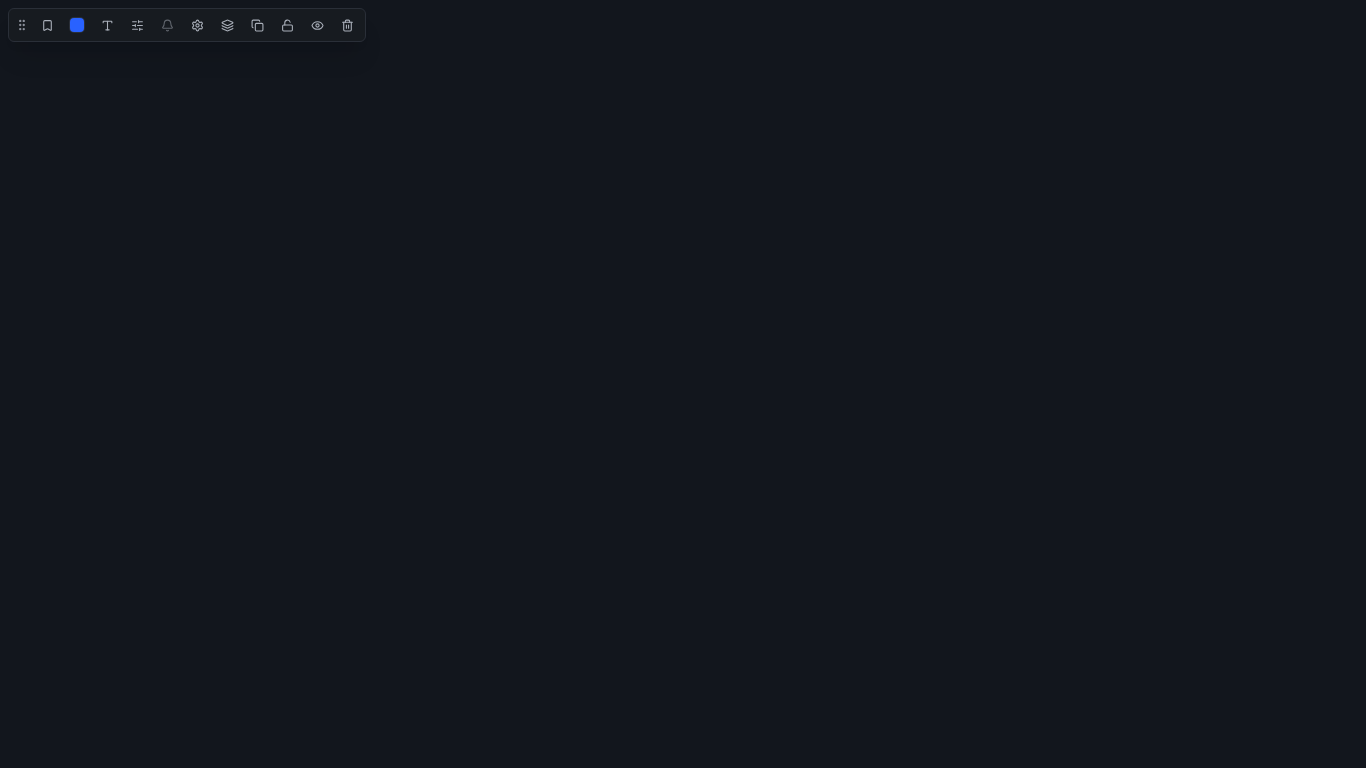
it: FloatingDrawingBar › renders for the selected drawing and opens the tabbed settings modal
Check: the element named "Trend line settings" is shown, box [8,8,366,42]
Click the button named "Drawing settings".
click(197, 25)  # box [183,11,211,39]
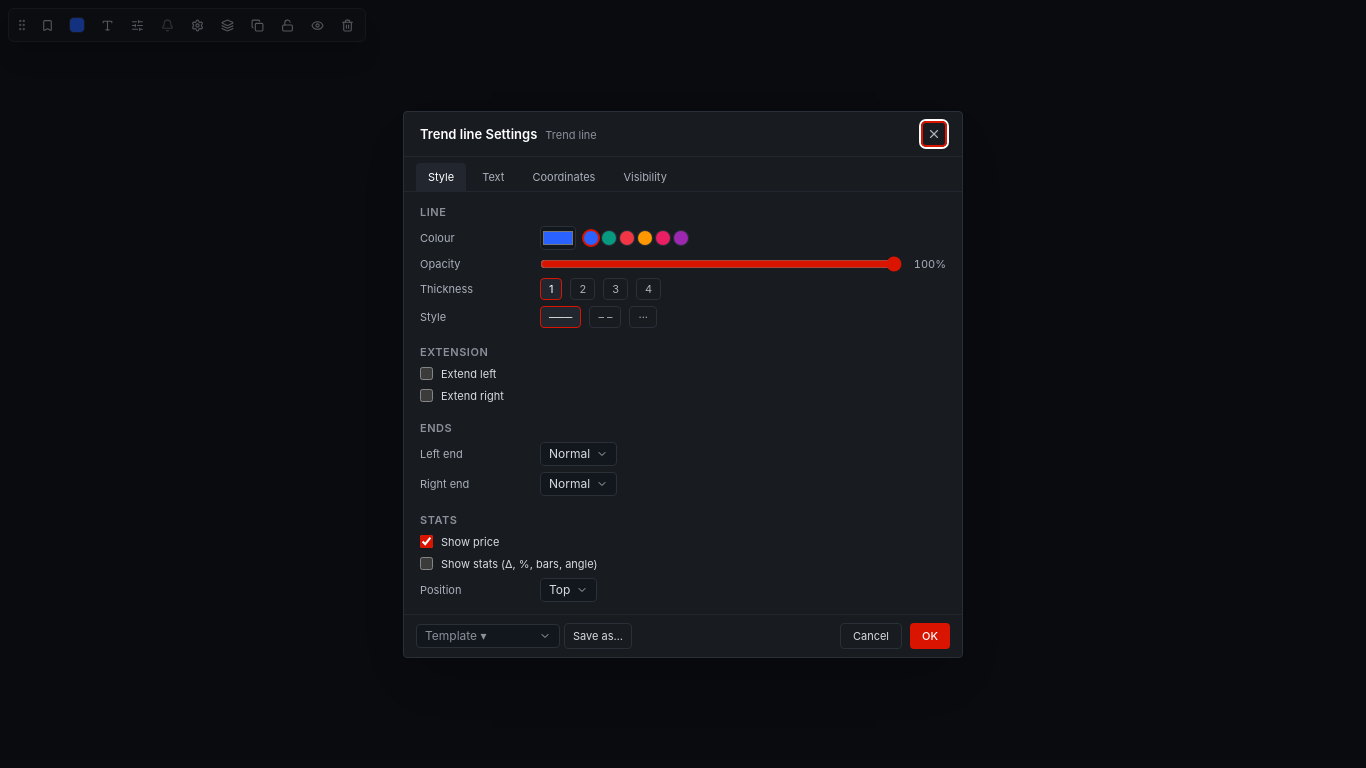
Check: the dialog is shown, box [403,110,963,658]
Check: the element named "Drawing settings sections" is shown, box [404,156,962,192]
Check: the tab "Style" is shown, box [416,162,466,190]
